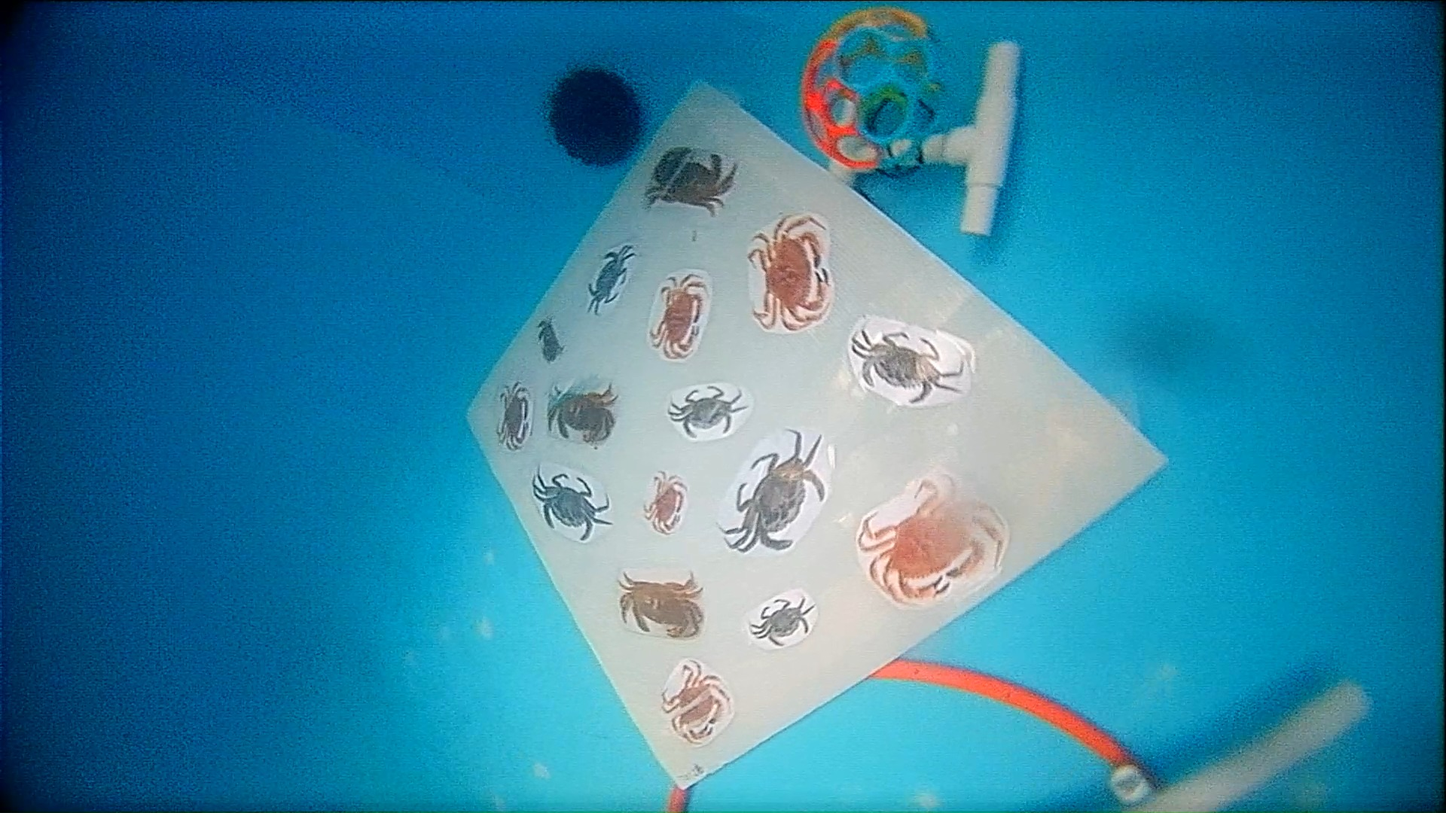GreenCrab: (851, 328, 962, 403), (533, 473, 611, 540), (670, 385, 743, 437), (589, 244, 633, 312), (750, 598, 813, 645)
